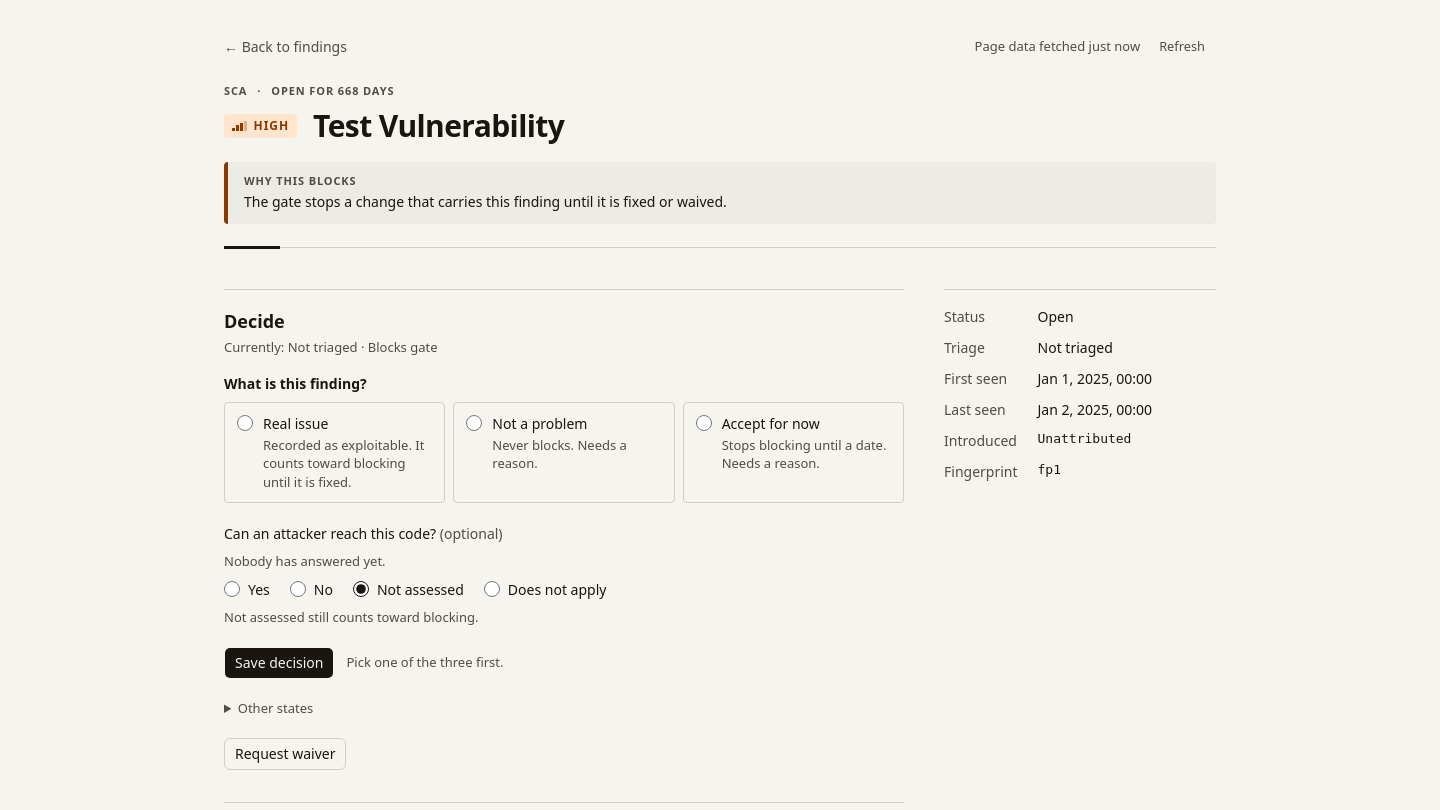
it: FindingDetail optimistic triage › shows the chosen state at once and claims nothing about the gate until it has refetched
The width and height of the screenshot is (1440, 810).
Check: the heading "Test Vulnerability" is shown, box [313,109,564,142]
Check: the heading "Why this blocks" is shown, box [244,173,356,188]
Click the radio button labelled "Real issue". click: (245, 423)
box: [237,415,253,431]
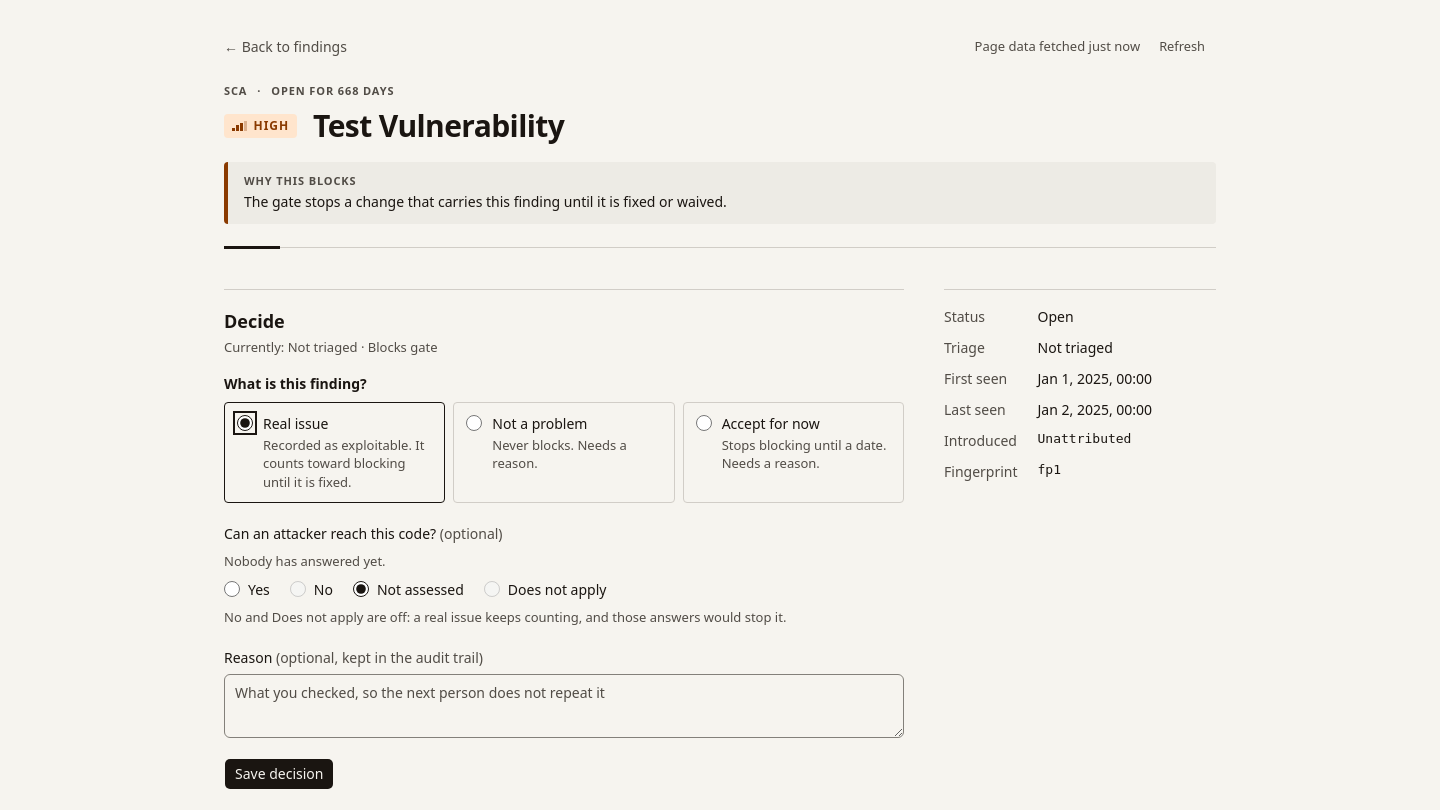
Click the button "Save decision". click: (279, 774)
box: [224,758,334,790]
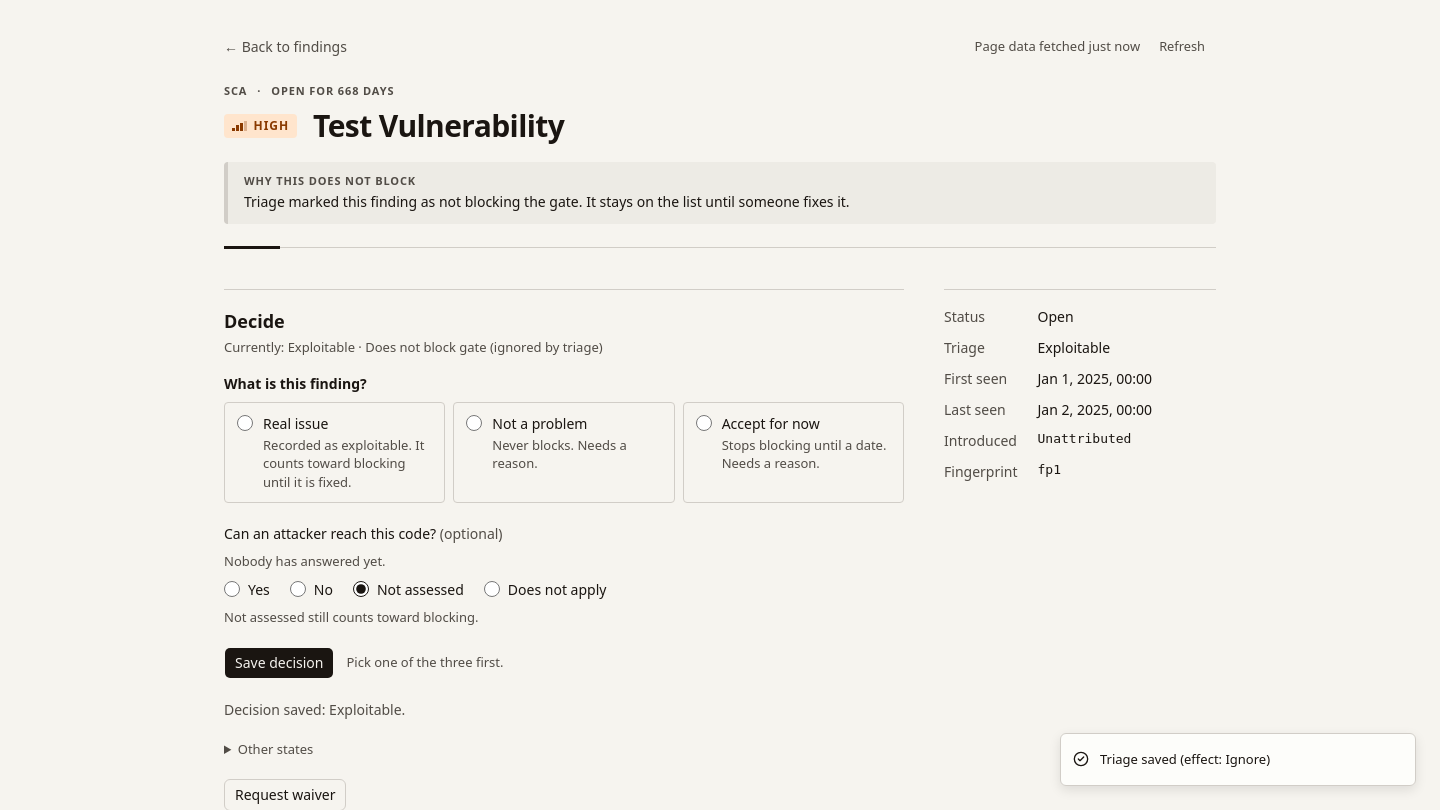
Check: the text "Exploitable" is shown, box [1038,338,1110,357]
Check: the text "Triage saved (effect: Ignore)" is shown, box [1100,750,1270,769]
Check: the heading "Why this blocks" is gone
